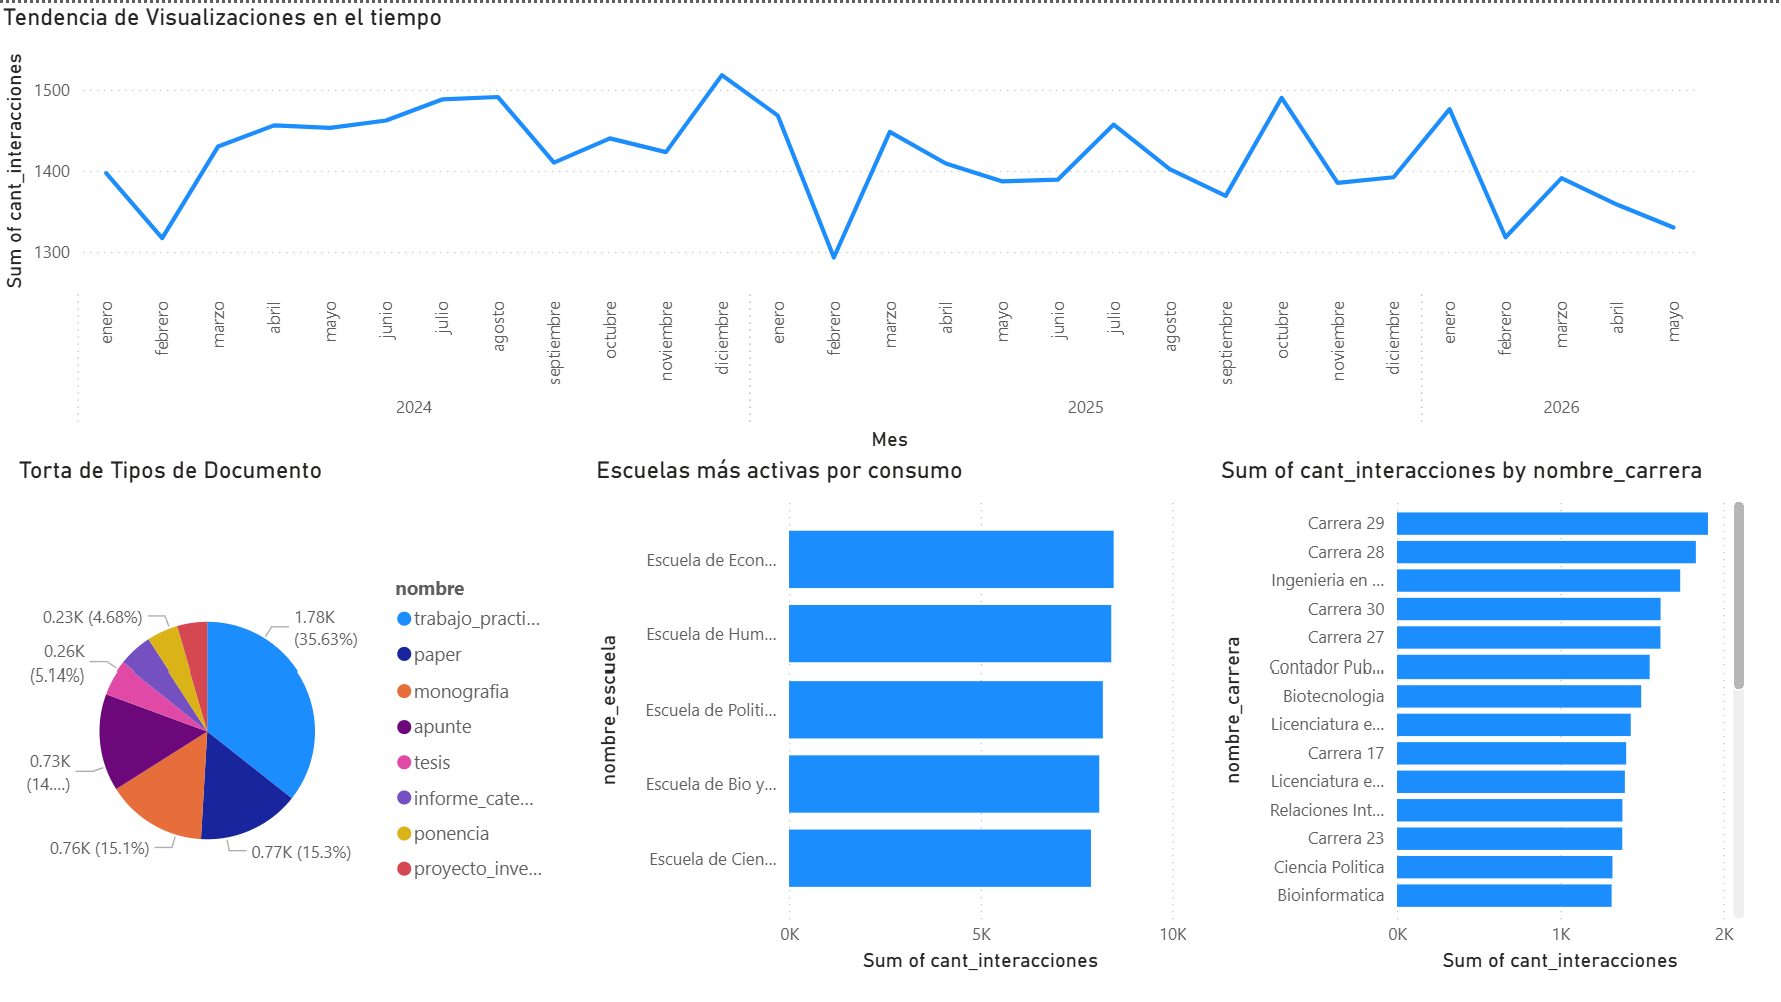

Layout of this report page (visuals, bound fields, positions):
{"tool":"powerbi","page":{"name":"Elementos Extra (relacionados entre sí)","canvas":[1280,720],"ordinal":1},"visuals":[{"type":"lineChart","title":"Tendencia de Visualizaciones en el tiempo","fields":{"Y":["Sum(dwh fact_interaccion_documento.cant_interacciones)"],"Category":["dwh dim_tiempo.anio","dwh dim_tiempo.fecha.Variación.Jerarquía de fechas.Mes"]},"box":[0,0,1219,324.1],"z":0},{"type":"clusteredBarChart","title":"Escuelas más activas por consumo","fields":{"Category":["dwh dim_materia.nombre_escuela"],"Y":["Sum(dwh fact_interaccion_documento.cant_interacciones)"]},"box":[423.8,323.8,431.2,371.2],"z":1000},{"type":"pieChart","title":" Torta de Tipos de Documento","fields":{"Category":["dwh dim_tipo_documento.nombre"],"Y":["CountNonNull(dwh dim_documento.id_documento)"]},"box":[11.2,323.8,395,371.2],"z":2000},{"type":"clusteredBarChart","fields":{"Category":["dwh dim_materia.nombre_carrera"],"Y":["Sum(dwh fact_interaccion_documento.cant_interacciones)"]},"box":[870,323.8,383.8,371.2],"z":3000}]}

Visuals, with their boxes in screenshot pixels (x1, y1, x2, y2), scaled from the page's 1280x720 canvas onto the 1781x1002 screenshot:
"Tendencia de Visualizaciones en el tiempo" lineChart: detection(0, 0, 1696, 451)
"Escuelas más activas por consumo" clusteredBarChart: detection(590, 451, 1190, 967)
" Torta de Tipos de Documento" pieChart: detection(16, 451, 565, 967)
clusteredBarChart - dwh dim_materia.nombre_carrera x Sum(dwh fact_interaccion_documento.cant_interacciones): detection(1211, 451, 1745, 967)
